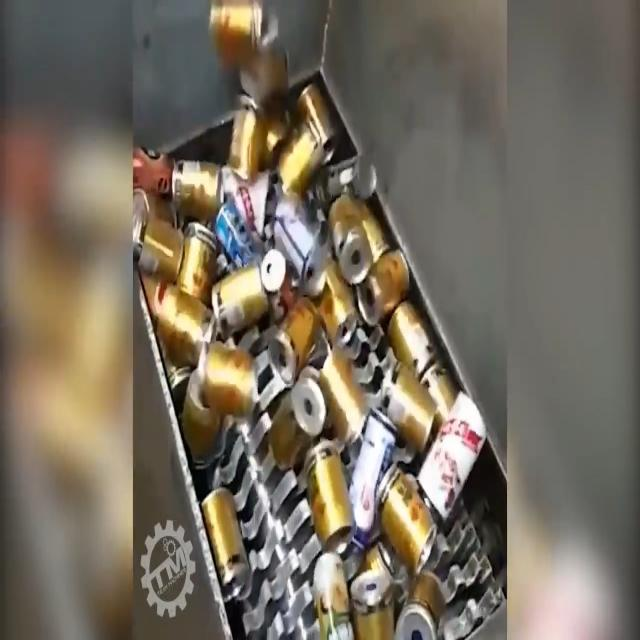Broyeur: (163, 241, 506, 640)
